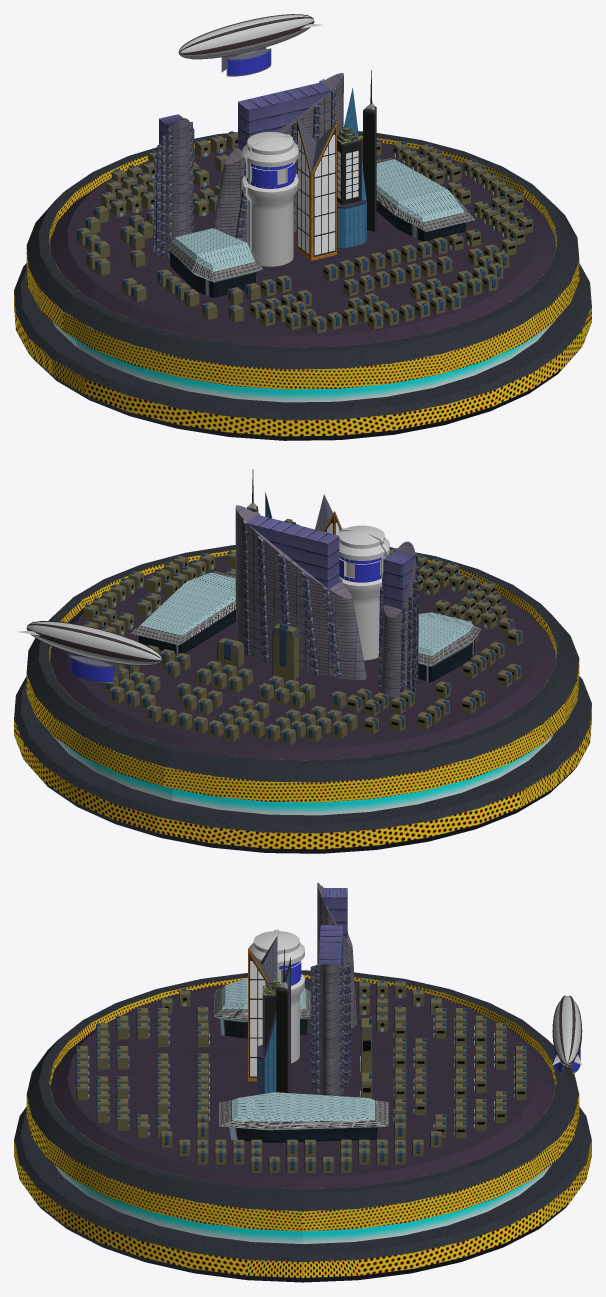
The model's file is City.fbx.
3 views of the same model, one above another, from view 1: azimuth 30°, elevation 25°; view 2: azimuth 150°, elevation 25°; view 3: azimuth 270°, elevation 25° (orthographic).
Visible parts, largest first — view 1: Circle.001, Circle, Circle.002, Edificio 5, Cylinder, Cube.000, Edificio 3, Edificio 5.001, Cube.013, Zeppelin, Edificio 1, Circle.003 (+1 smaller); view 2: Circle.002, Circle.003, Edificio 5, Circle.001, Edificio 5.001, Cube.000, Zeppelin, Cylinder, Cube.013, Circle, Houses.002, Houses (+1 smaller); view 3: Circle, Circle.003, Circle.001, Circle.002, Cube.000, Edificio 5, Cylinder, Edificio 1, Edificio 3, Cube.013, Edificio 5.001, Zeppelin (+2 smaller).
Part boxes in pixels (left/top/right/bottom): Circle.001: left=52, top=238, right=447, bottom=440; Circle: left=331, top=184, right=591, bottom=424; Circle.002: left=14, top=147, right=296, bottom=380; Edificio 5: left=212, top=73, right=343, bottom=242; Cylinder: left=242, top=132, right=298, bottom=266; Cube.000: left=362, top=158, right=475, bottom=241; Edificio 3: left=296, top=117, right=336, bottom=260; Edificio 5.001: left=153, top=114, right=194, bottom=259; Cube.013: left=164, top=228, right=262, bottom=297; Zeppelin: left=178, top=14, right=322, bottom=76; Edificio 1: left=337, top=88, right=366, bottom=248; Circle.003: left=194, top=131, right=531, bottom=217; Circle.002: left=158, top=664, right=553, bottom=853; Circle.003: left=14, top=597, right=272, bottom=837; Edificio 5: left=235, top=505, right=366, bottom=680; Circle.001: left=364, top=556, right=591, bottom=792; Edificio 5.001: left=378, top=541, right=418, bottom=696; Cube.000: left=130, top=571, right=235, bottom=654; Zeppelin: left=17, top=621, right=162, bottom=683; Cylinder: left=338, top=525, right=389, bottom=660; Cube.013: left=418, top=612, right=481, bottom=682; Circle: left=74, top=545, right=434, bottom=632; Houses.002: left=272, top=623, right=298, bottom=680; Houses: left=217, top=638, right=243, bottom=667; Circle: left=14, top=1078, right=302, bottom=1282; Circle.003: left=303, top=1078, right=591, bottom=1282; Circle.001: left=14, top=970, right=302, bottom=1139; Circle.002: left=303, top=970, right=591, bottom=1139; Cube.000: left=219, top=1092, right=388, bottom=1142; Edificio 5: left=310, top=925, right=351, bottom=1096; Cylinder: left=249, top=929, right=304, bottom=1063; Edificio 1: left=257, top=957, right=290, bottom=1094; Edificio 3: left=248, top=935, right=277, bottom=1081; Cube.013: left=214, top=978, right=310, bottom=1038; Edificio 5.001: left=317, top=882, right=357, bottom=1027; Zeppelin: left=552, top=995, right=582, bottom=1074.
Bounding box in the file's own units: 1380 × 793 × 1380.
